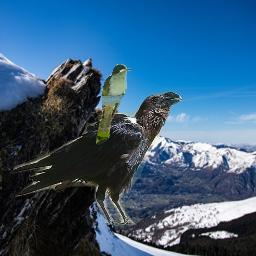Crow: (10, 91, 183, 225)
Cuckoo: (96, 64, 132, 145)
